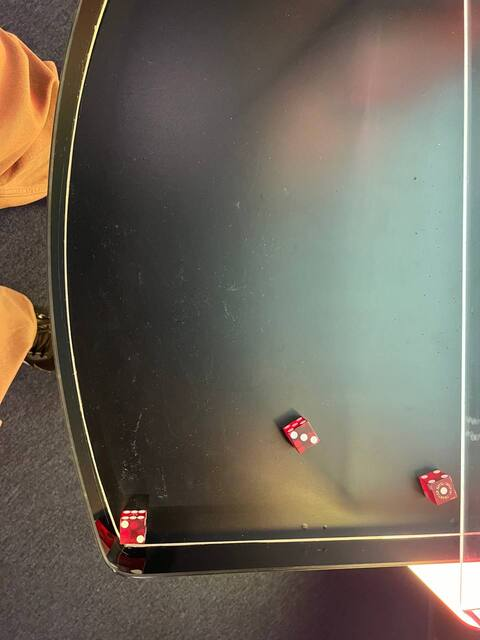one: (429, 477, 458, 504)
three: (285, 423, 324, 453)
two: (115, 515, 150, 547)
